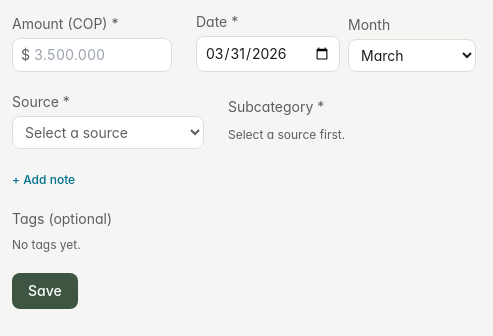
Test: DirectIncomeForm › al cambiar el mes conserva el dia o baja al ultimo valido
Expected: the date field labelled "Date *" holds "2026-03-31", [196,36,340,72]
Select "February" in the dropdown with test id "direct-month". click: point(412, 56)
box: [348,39,476,72]
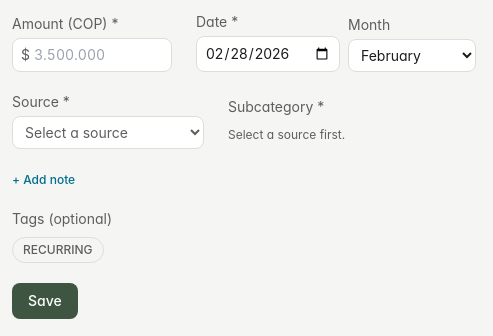
Expected: the date field labelled "Date *" holds "2026-02-28", [196,36,340,72]
